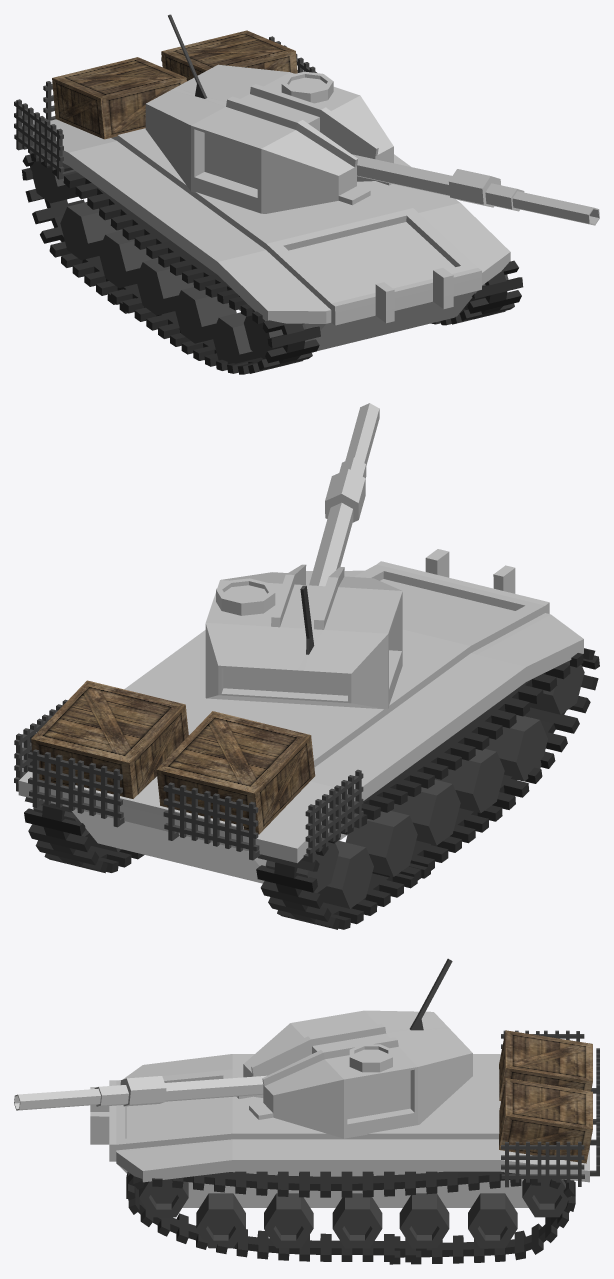
File: tanks.fbx
The picture shows the model from 3 angles, top to bottom: view 1: azimuth 30°, elevation 25°; view 2: azimuth 150°, elevation 25°; view 3: azimuth 270°, elevation 25°; orthographic projection. The views are drawn at different scales.
Visible parts, largest first — view 1: Cube.017; view 2: Cube.017; view 3: Cube.017.
Boxes of the visible parts, x1,y1,x2,y2 form: Cube.017: (14,14,599,374); Cube.017: (14,403,599,929); Cube.017: (14,958,599,1264).
Size of the model in its own units: 242 by 218 by 505.
